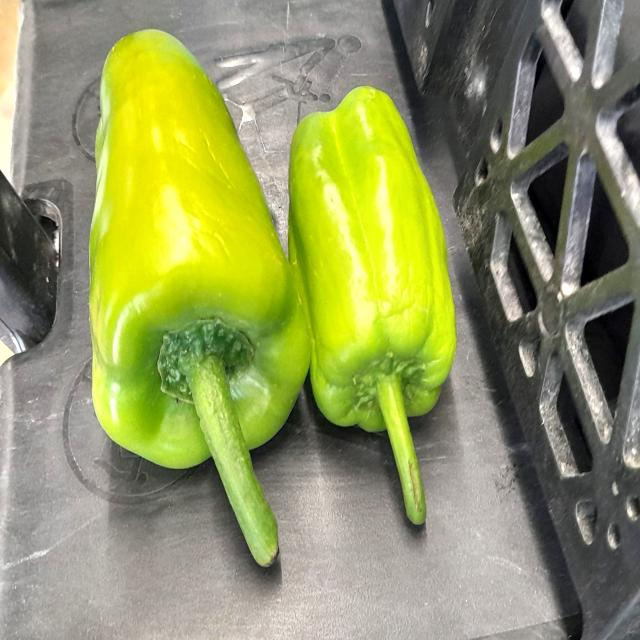bell pepper: (72, 19, 308, 569), (282, 69, 458, 527)
